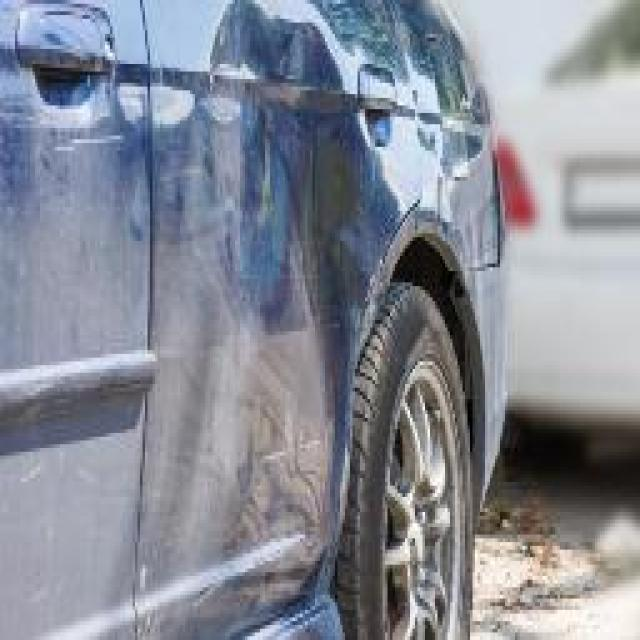Door: (152, 0, 385, 640)
